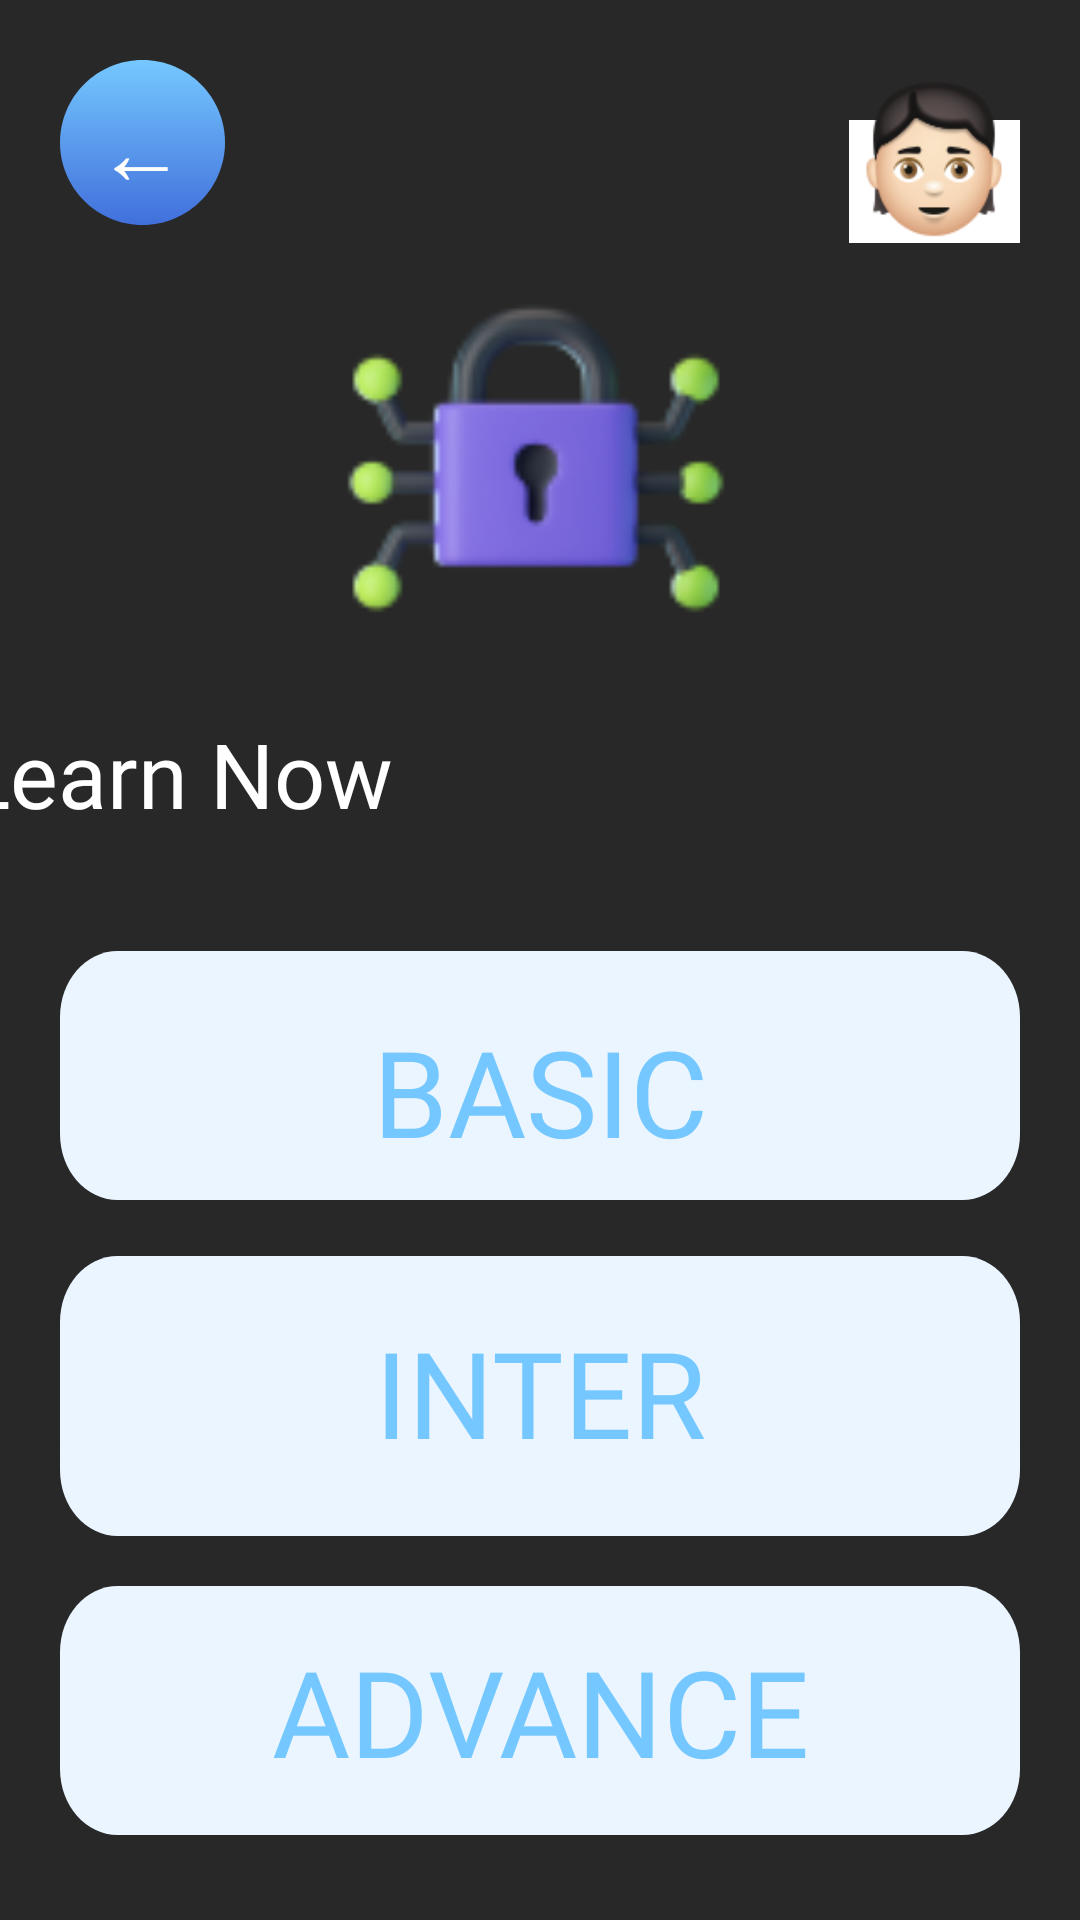

Screen size 1080px×1920px. Icon name, then its box in pixels as (x1, y1, x2, y2):
back: (60, 60, 225, 225)
son: (853, 94, 1015, 243)
